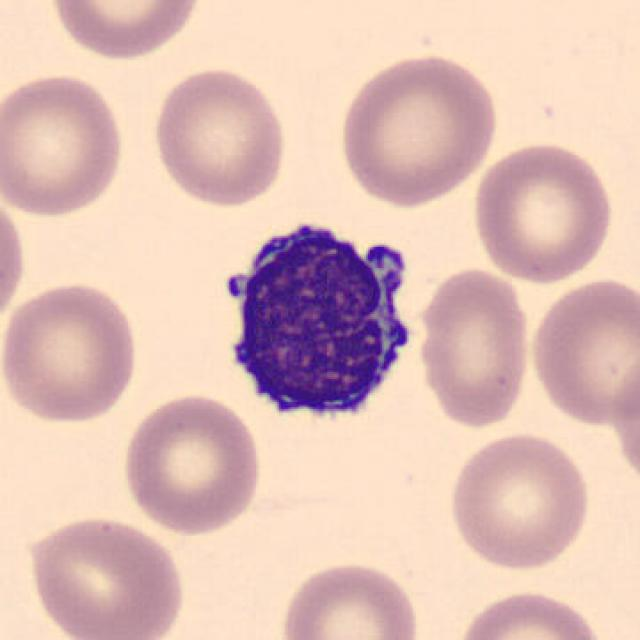Lymphocyte: (206, 204, 427, 441)
RBC: (334, 49, 503, 208), (467, 138, 617, 288), (117, 390, 267, 538), (444, 428, 596, 573), (0, 277, 144, 428), (22, 511, 188, 640), (148, 63, 290, 210), (414, 264, 534, 432), (0, 69, 130, 220), (524, 272, 638, 428), (275, 555, 425, 640), (44, 0, 204, 62), (452, 585, 608, 640), (606, 346, 640, 496), (0, 185, 30, 335)
